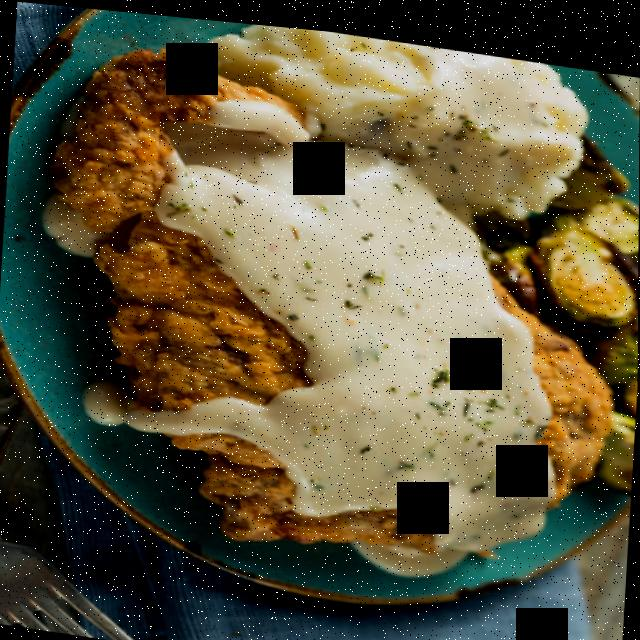Frango: (19, 21, 632, 585)
